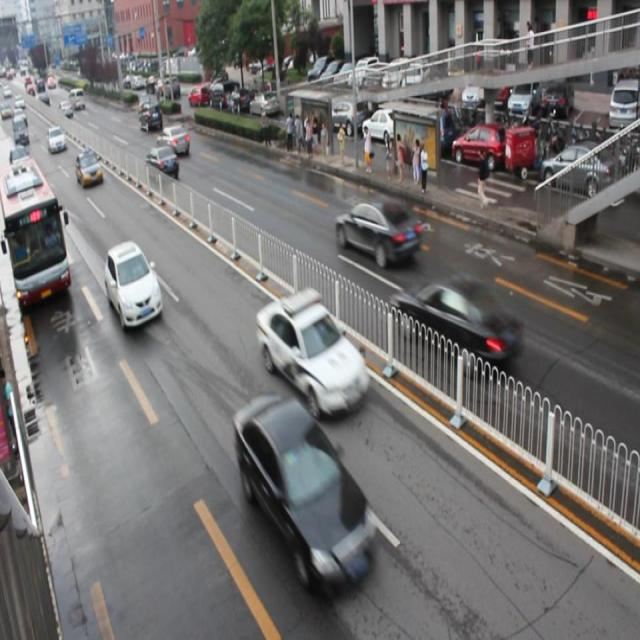car: (233, 393, 376, 592), (256, 291, 367, 418), (390, 276, 519, 372), (334, 198, 421, 267), (105, 240, 161, 330), (146, 145, 178, 181), (157, 124, 190, 158), (76, 149, 104, 186)
van: (1, 159, 71, 306)
